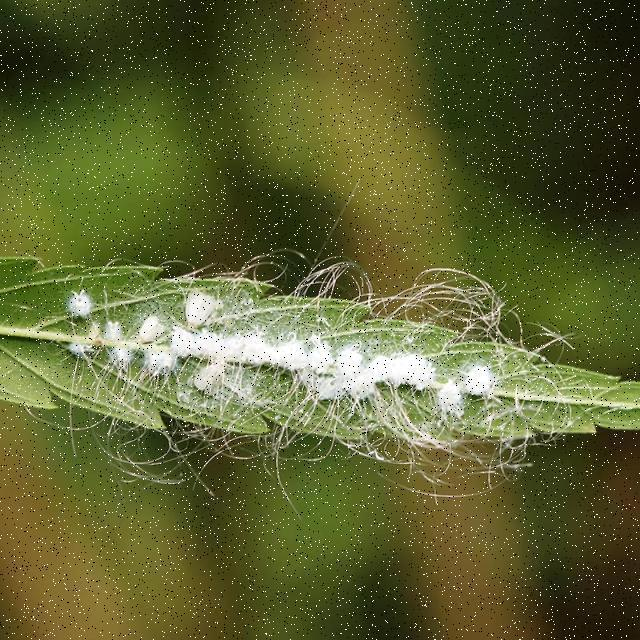Whiteflies: (59, 266, 550, 454)
